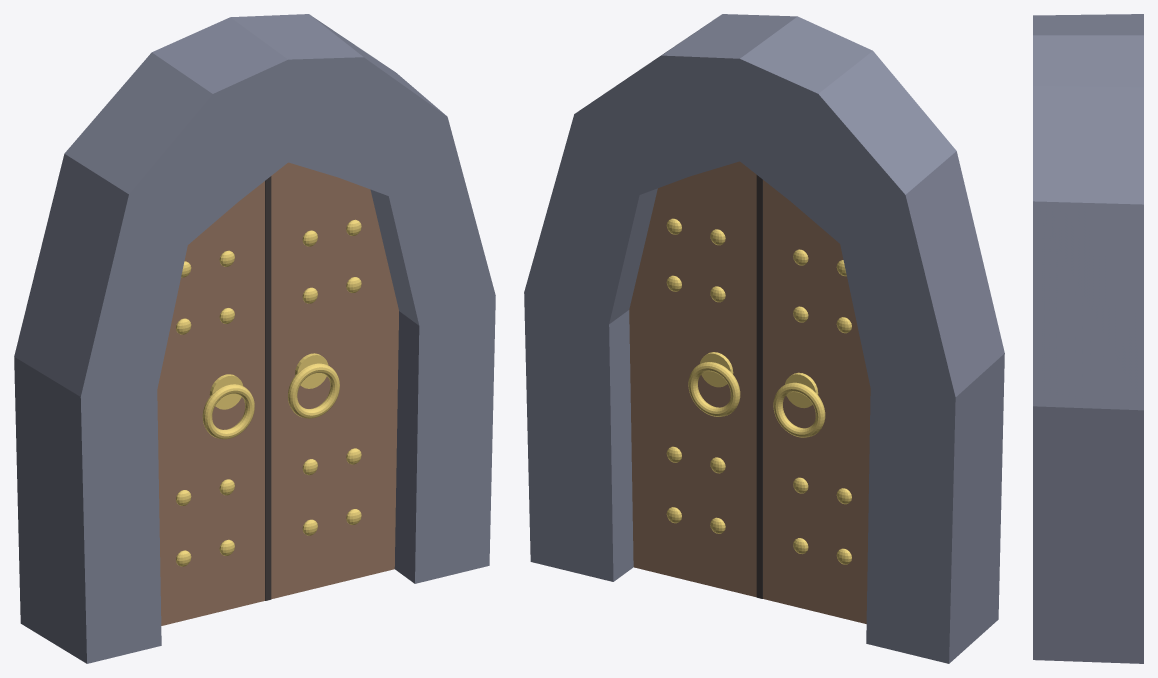
File: Stage_05_妖洞通关石门_闭.glb
3 views of the same model, side by side, from view 1: azimuth 30°, elevation 25°; view 2: azimuth 150°, elevation 25°; view 3: azimuth 270°, elevation 25° (orthographic). The views are drawn at different scales.
Visible parts, largest first — view 1: DungeonArchway, DoorLeaf_1, DoorLeaf_-1, Cube, Torus, Torus.002; view 2: DungeonArchway, DoorLeaf_1, DoorLeaf_-1, Cube, Torus.001, Torus.003; view 3: DungeonArchway.
Part boxes in pixels (bbox=[...]): DungeonArchway: bbox=[14, 14, 495, 663]; DoorLeaf_1: bbox=[271, 162, 398, 599]; DoorLeaf_-1: bbox=[157, 181, 264, 625]; Cube: bbox=[265, 176, 271, 600]; Torus: bbox=[202, 384, 254, 439]; Torus.002: bbox=[287, 363, 339, 418]; DungeonArchway: bbox=[524, 14, 1004, 663]; DoorLeaf_1: bbox=[629, 161, 756, 597]; DoorLeaf_-1: bbox=[763, 180, 870, 623]; Cube: bbox=[756, 175, 762, 598]; Torus.001: bbox=[773, 382, 825, 437]; Torus.003: bbox=[688, 362, 740, 416]; DungeonArchway: bbox=[1033, 14, 1143, 663].
Size of the model in its own units: 3.96 by 4.86 by 0.92.
